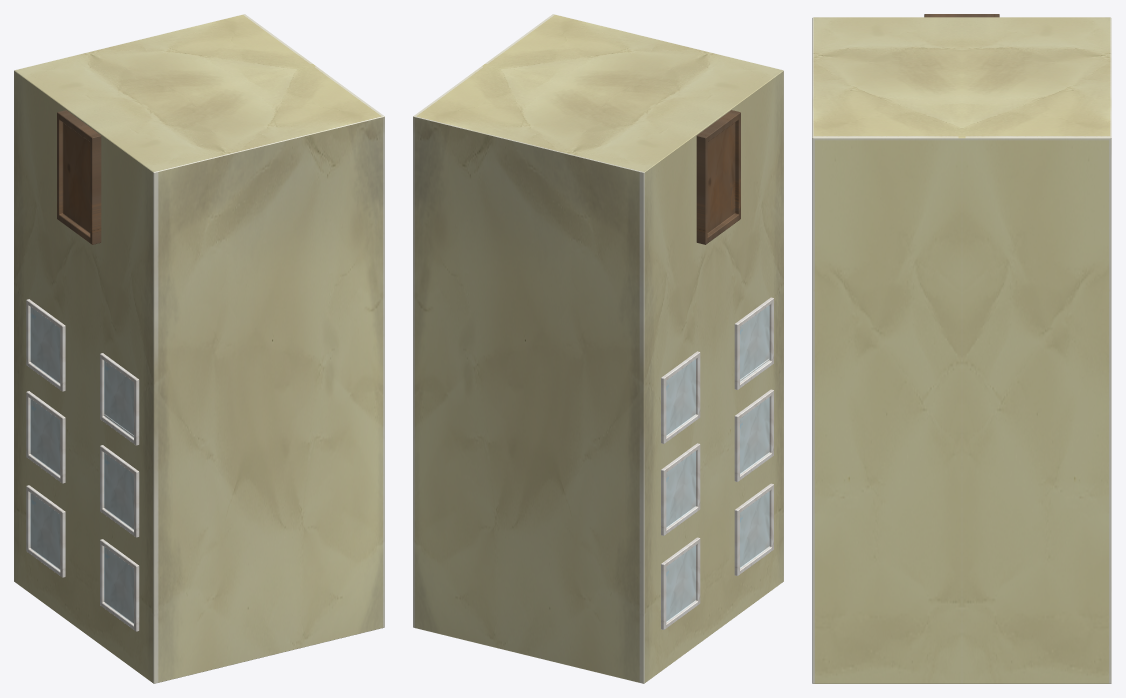
The picture shows the model from 3 angles, left to right: view 1: azimuth 30°, elevation 25°; view 2: azimuth 150°, elevation 25°; view 3: azimuth 270°, elevation 25°; orthographic projection. The views are drawn at different scales.
Visible parts, largest first — view 1: Plane.004, Plane, Plane.005, Plane.001, Plane.006; view 2: Plane.004, Plane, Plane.005, Plane.001, Plane.006; view 3: Plane.004.
Part boxes in pixels (box(x1,y1,x2,y2)): Plane.004: box(14, 14, 384, 683); Plane: box(30, 307, 133, 623); Plane.005: box(26, 299, 139, 631); Plane.001: box(57, 110, 101, 244); Plane.006: box(104, 360, 133, 435); Plane.004: box(413, 14, 783, 683); Plane: box(666, 305, 769, 622); Plane.005: box(661, 297, 773, 629); Plane.001: box(696, 110, 740, 244); Plane.006: box(740, 306, 769, 380); Plane.004: box(812, 17, 1111, 683).
Size of the model in its own units: 569 by 1156 by 573.
6 materials, 6 textured.
